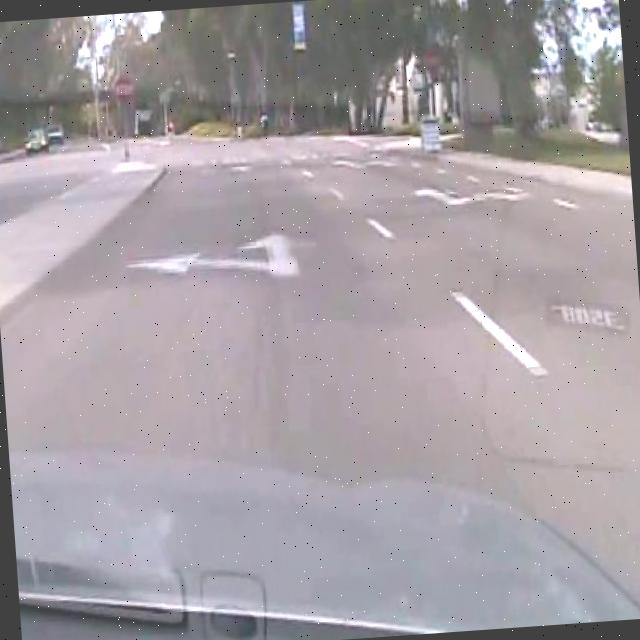Stop: (113, 74, 136, 104)
